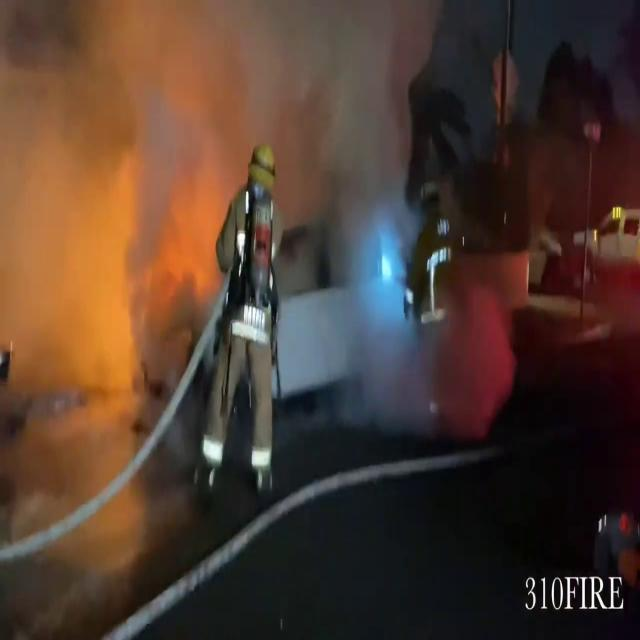Smoke: (1, 0, 457, 344)
